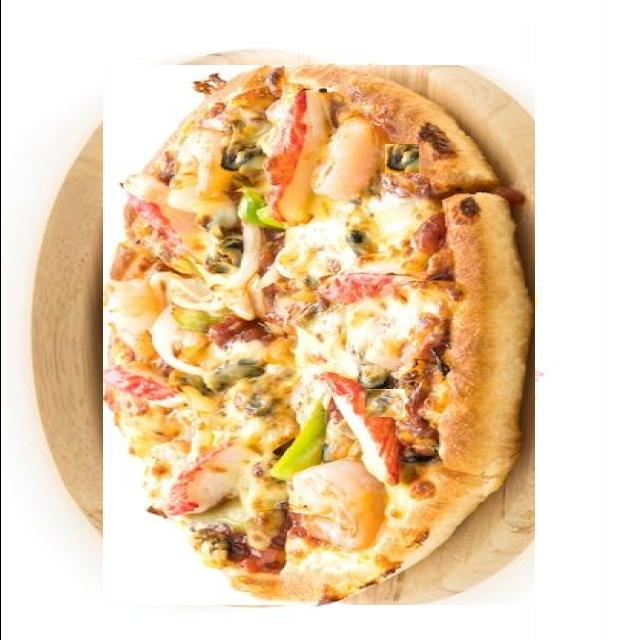olive: (364, 389, 404, 417), (384, 144, 418, 173)
pizza: (102, 65, 534, 605)
